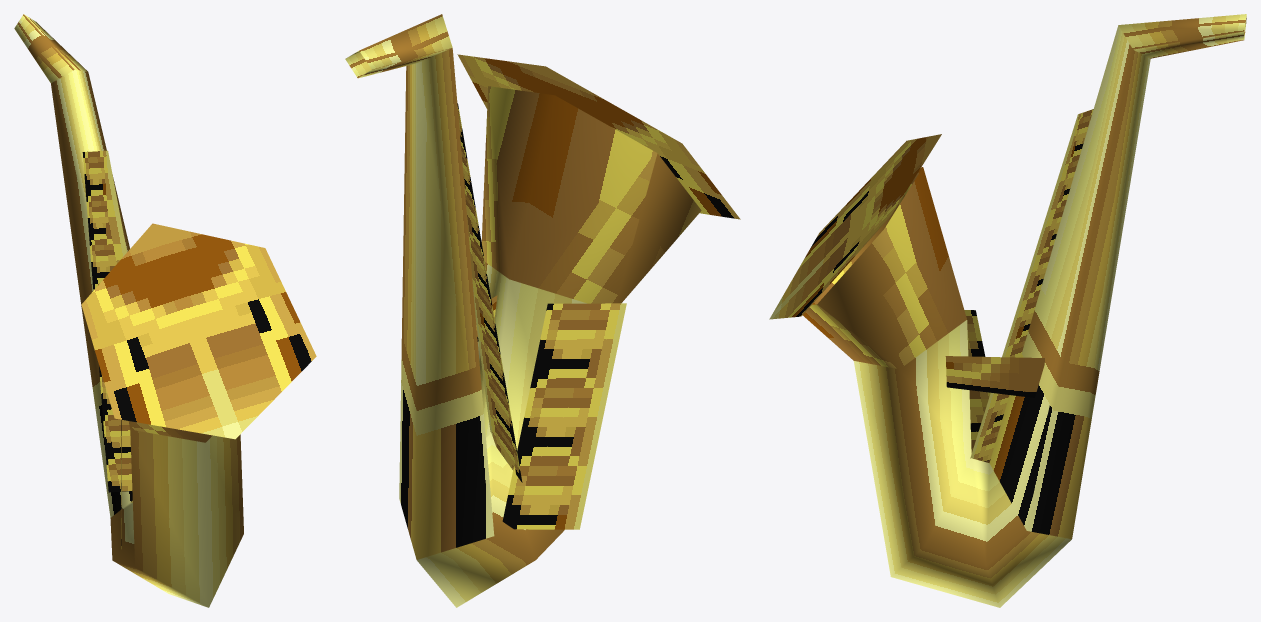
3 renders of one model, left to right at view 1: azimuth 30°, elevation 25°; view 2: azimuth 150°, elevation 25°; view 3: azimuth 270°, elevation 25°, orthographic. The views are drawn at different scales.
Parts seen in each view (by area): view 1: 2734gakki03_e; view 2: 2734gakki03_e; view 3: 2734gakki03_e.
Boxes of the visible parts, x1,y1,x2,y2 form: 2734gakki03_e: [14, 14, 316, 607]; 2734gakki03_e: [345, 14, 740, 607]; 2734gakki03_e: [769, 14, 1246, 607].
Bounding box in the file's own units: 0.1788 × 0.4479 × 0.3376.
1 material, 1 textured.
